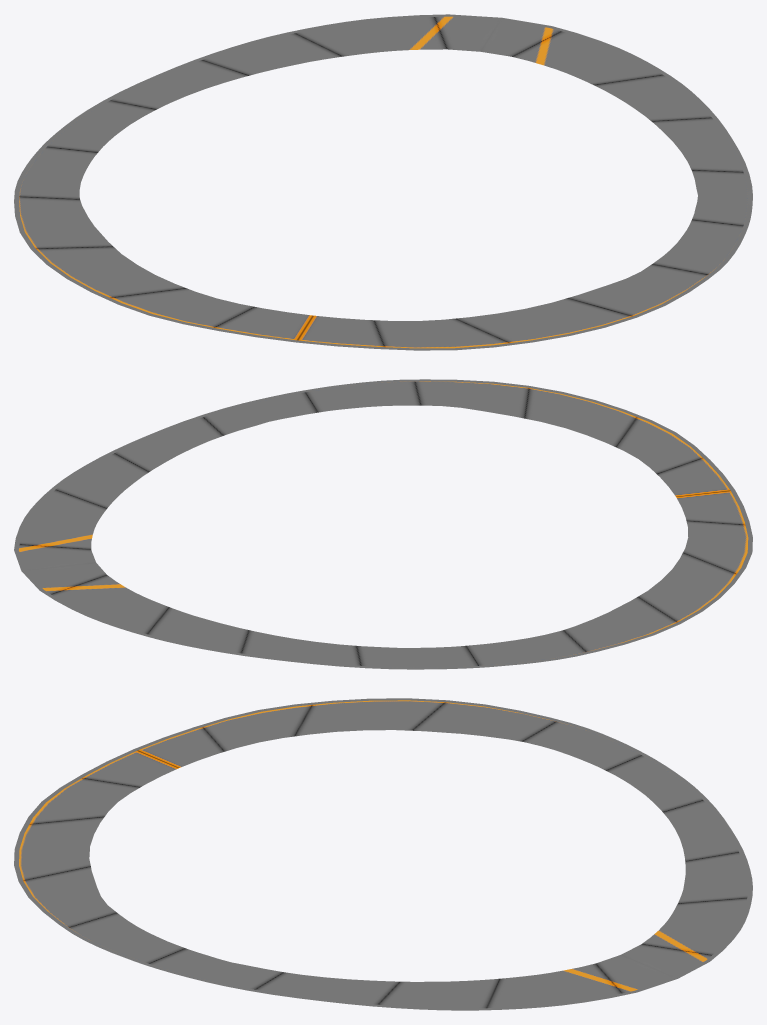
Rendered from GravityPod_FloorBase.fbx.
The picture shows the model from 3 angles, top to bottom: view 1: azimuth 30°, elevation 25°; view 2: azimuth 150°, elevation 25°; view 3: azimuth 270°, elevation 25°; orthographic projection. The views are drawn at different scales.
Parts seen in each view (by area): view 1: GravityPod_FloorBase; view 2: GravityPod_FloorBase; view 3: GravityPod_FloorBase.
Part boxes in pixels (x1=…): GravityPod_FloorBase: x1=14, y1=14, x2=752, y2=350; GravityPod_FloorBase: x1=14, y1=379, x2=752, y2=669; GravityPod_FloorBase: x1=14, y1=698, x2=752, y2=1010.
Bounding box in the file's own units: 1829 × 0.2858 × 1829.
2 materials, 1 textured.
